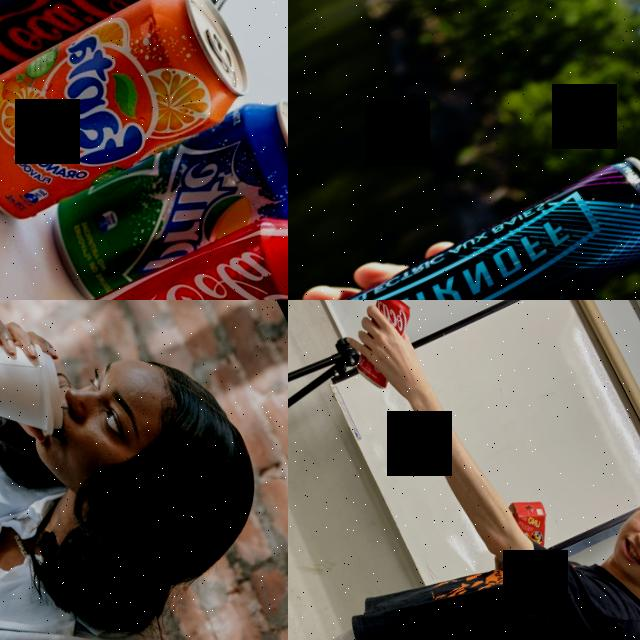can: (0, 0, 267, 238), (288, 142, 640, 300), (38, 80, 288, 300), (0, 0, 246, 122), (33, 188, 288, 300), (325, 300, 438, 397)
cup: (0, 301, 84, 468)
